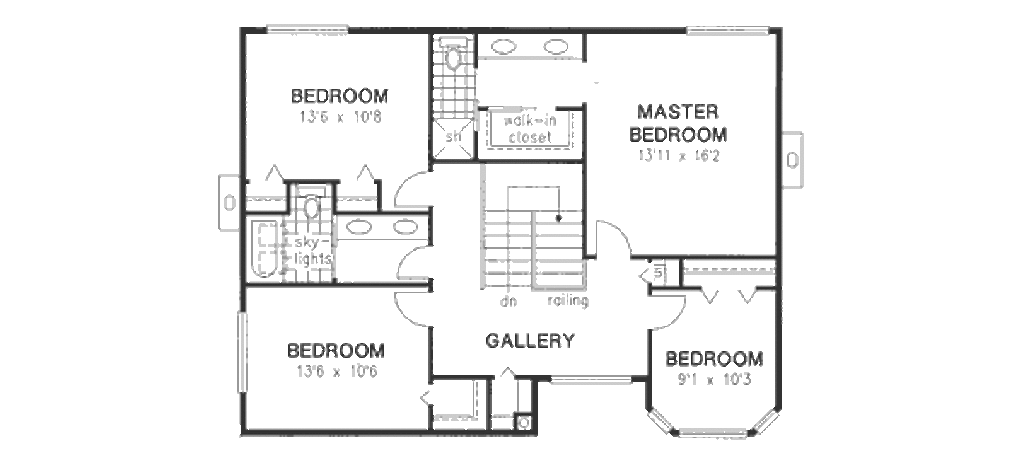door: (586, 217, 636, 259), (386, 244, 433, 285), (393, 288, 436, 332), (647, 290, 688, 330), (396, 167, 432, 212)
large_sink: (291, 179, 332, 226), (427, 30, 470, 71)
small_sink: (470, 29, 584, 58), (328, 213, 432, 241)
stairs: (481, 156, 595, 296)
tub: (245, 215, 286, 287)
window: (647, 405, 784, 441), (233, 309, 256, 398), (551, 368, 637, 387), (264, 22, 353, 39), (682, 21, 770, 37)
